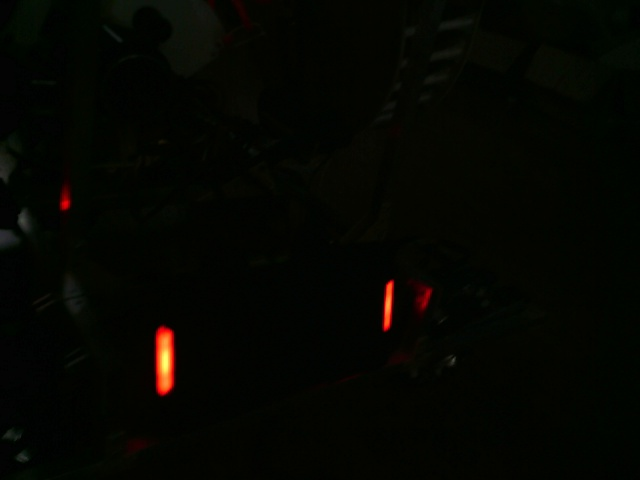lamp: (149, 324, 180, 395), (380, 279, 396, 334)
